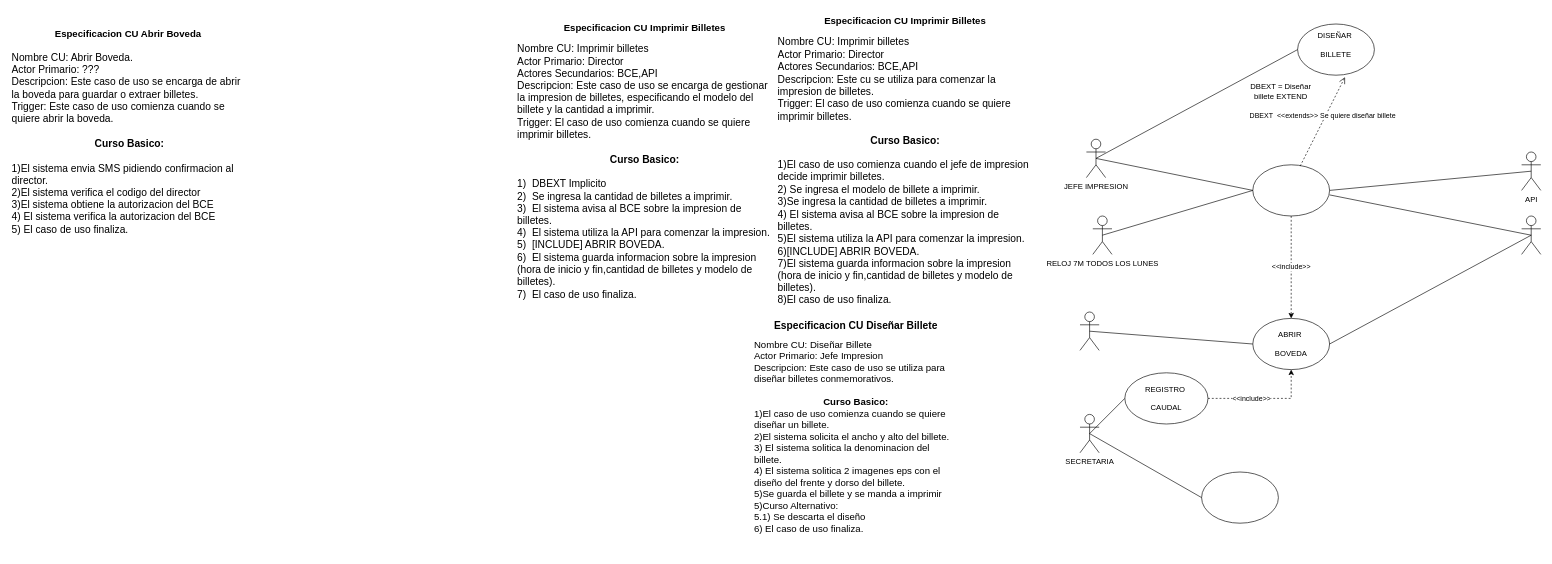
This 1552x564 diagram has some shape labels left out. The box of each missing label's shape, as (x1, y1, x2, y2) in pixels:
BCE: (1521, 215, 1541, 254)
DIRECTOR: (1079, 311, 1099, 350)
IMPRIMIR BILLETES: (1252, 164, 1330, 216)
MANTENER STOCK: (1201, 471, 1278, 523)
